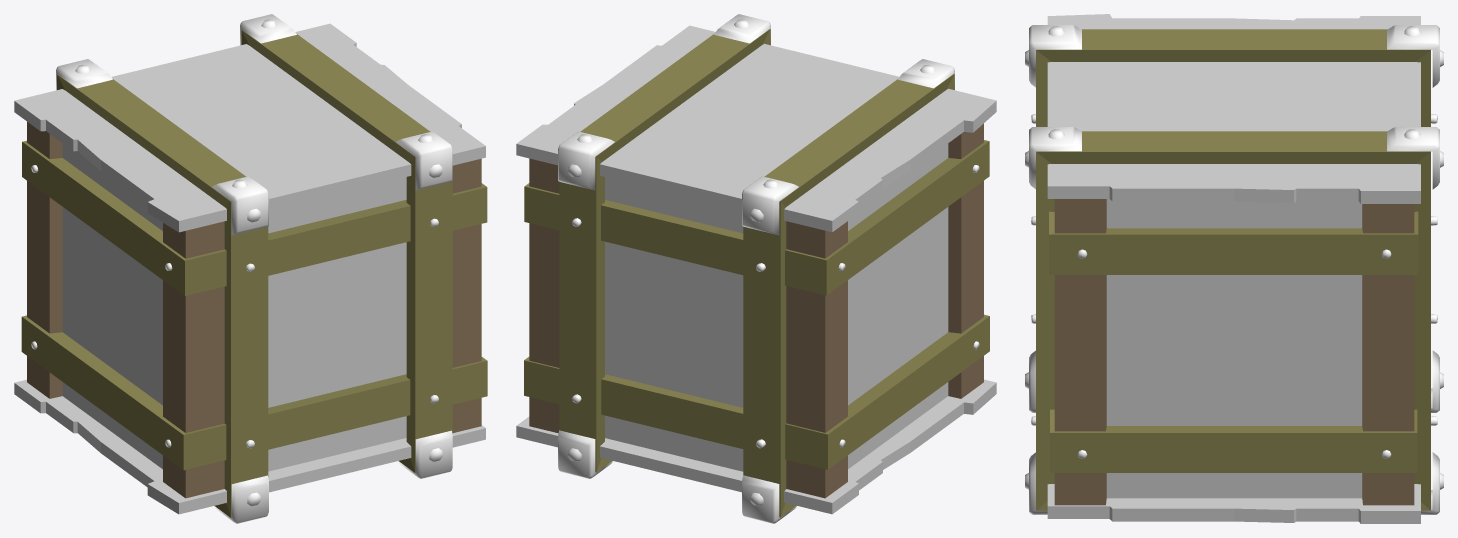
The model's file is crate.glb.
3 views of the same model, side by side, from view 1: azimuth 30°, elevation 25°; view 2: azimuth 150°, elevation 25°; view 3: azimuth 270°, elevation 25° (orthographic). The views are drawn at different scales.
Visible parts, largest first — view 1: Crate_Wooden; view 2: Crate_Wooden; view 3: Crate_Wooden.
Boxes of the visible parts, x1,y1,x2,y2 form: Crate_Wooden: [14, 14, 487, 523]; Crate_Wooden: [516, 14, 996, 523]; Crate_Wooden: [1025, 14, 1443, 523].
Size of the model in its own units: 1 by 1 by 1.
